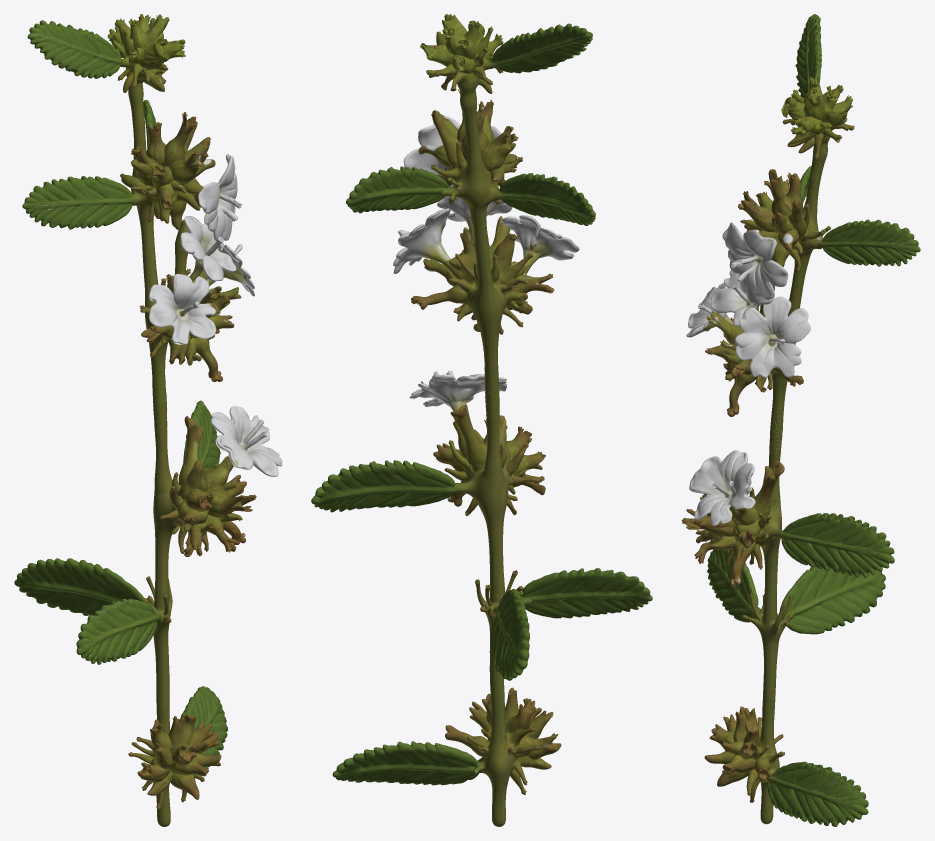
File: melochia_parvifolia.fbx
3 renders of one model, left to right at view 1: azimuth 30°, elevation 25°; view 2: azimuth 150°, elevation 25°; view 3: azimuth 270°, elevation 25°, orthographic. The views are drawn at different scales.
Visible parts, largest first — view 1: tripo_node_08476e39; view 2: tripo_node_08476e39; view 3: tripo_node_08476e39.
Part boxes in pixels (x1,y1,x2,y2): tripo_node_08476e39: (14,14,282,826); tripo_node_08476e39: (311,14,652,826); tripo_node_08476e39: (681,14,920,826).
Bounding box in the file's own units: 29.1 × 98.2 × 27.92.
Materials: 1 (1 with a texture image).
